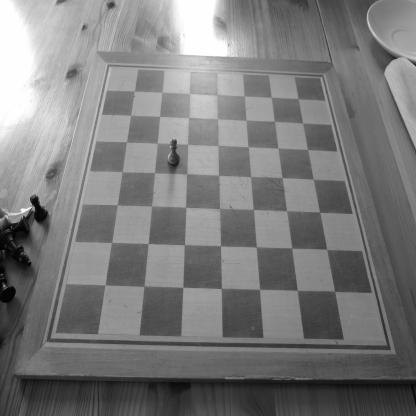black-bishop: (0, 228, 32, 268)
black-pawn: (30, 194, 48, 222)
white-knight: (0, 207, 34, 232)
white-pawn: (167, 137, 180, 165)
